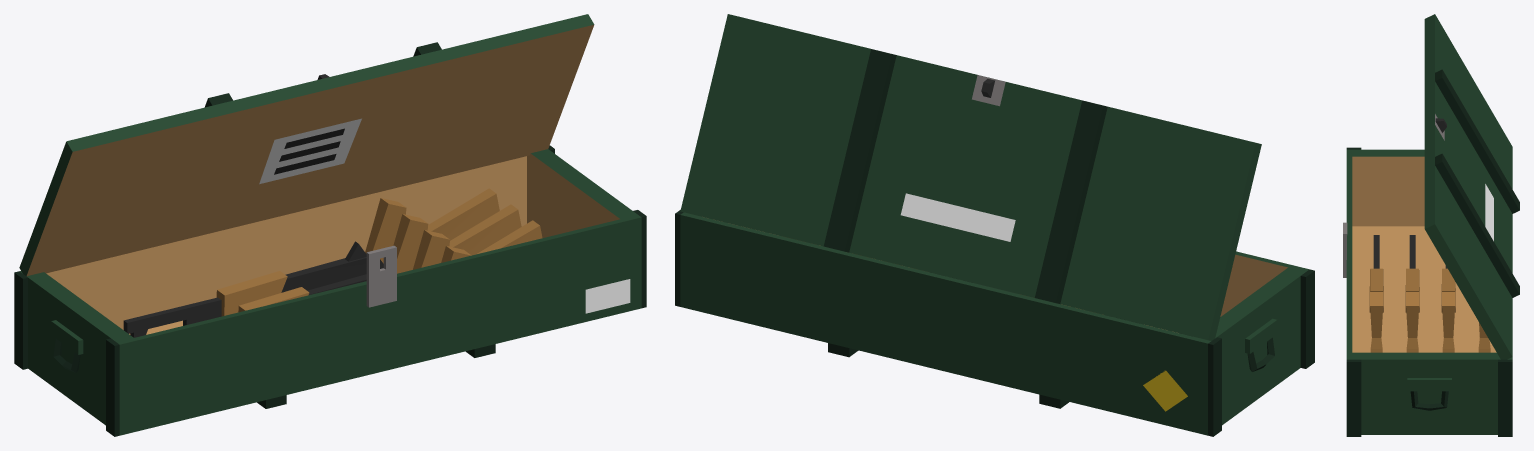
Rendered from weapons_crate-army-ak4-open.fbx.
3 renders of one model, left to right at view 1: azimuth 30°, elevation 25°; view 2: azimuth 150°, elevation 25°; view 3: azimuth 270°, elevation 25°, orthographic. The views are drawn at different scales.
Parts seen in each view (by area): view 1: weapons_crate_army_ak4_open; view 2: weapons_crate_army_ak4_open; view 3: weapons_crate_army_ak4_open.
Boxes of the visible parts, box(x1,y1,x2,y2) form: weapons_crate_army_ak4_open: box(14, 14, 646, 436); weapons_crate_army_ak4_open: box(675, 14, 1314, 436); weapons_crate_army_ak4_open: box(1343, 14, 1519, 436).
Size of the model in its own units: 200 by 95.68 by 69.17.
